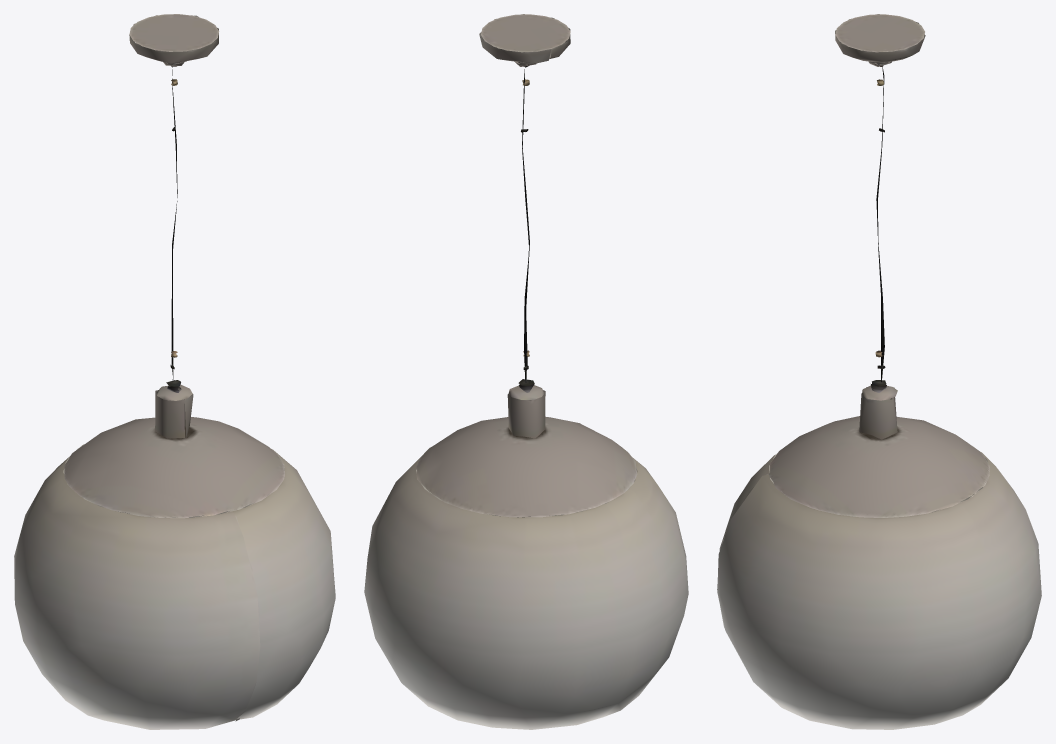
The model's file is modern_ceiling_lamp_01.glb.
3 renders of one model, left to right at view 1: azimuth 30°, elevation 25°; view 2: azimuth 150°, elevation 25°; view 3: azimuth 270°, elevation 25°, orthographic.
Visible parts, largest first — view 1: modern_ceiling_lamp_01; view 2: modern_ceiling_lamp_01; view 3: modern_ceiling_lamp_01.
Part boxes in pixels (bbox=[...]): modern_ceiling_lamp_01: bbox=[14, 14, 335, 729]; modern_ceiling_lamp_01: bbox=[364, 14, 688, 729]; modern_ceiling_lamp_01: bbox=[717, 14, 1041, 729].
Bounding box in the file's own units: 0.4317 × 0.9519 × 0.432.
Materials: 3 (3 with a texture image).
